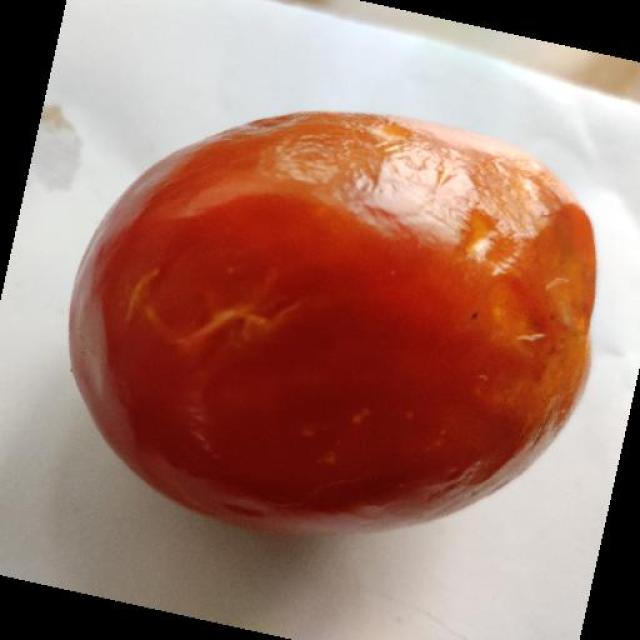Stale_tomato: (77, 100, 598, 546)
